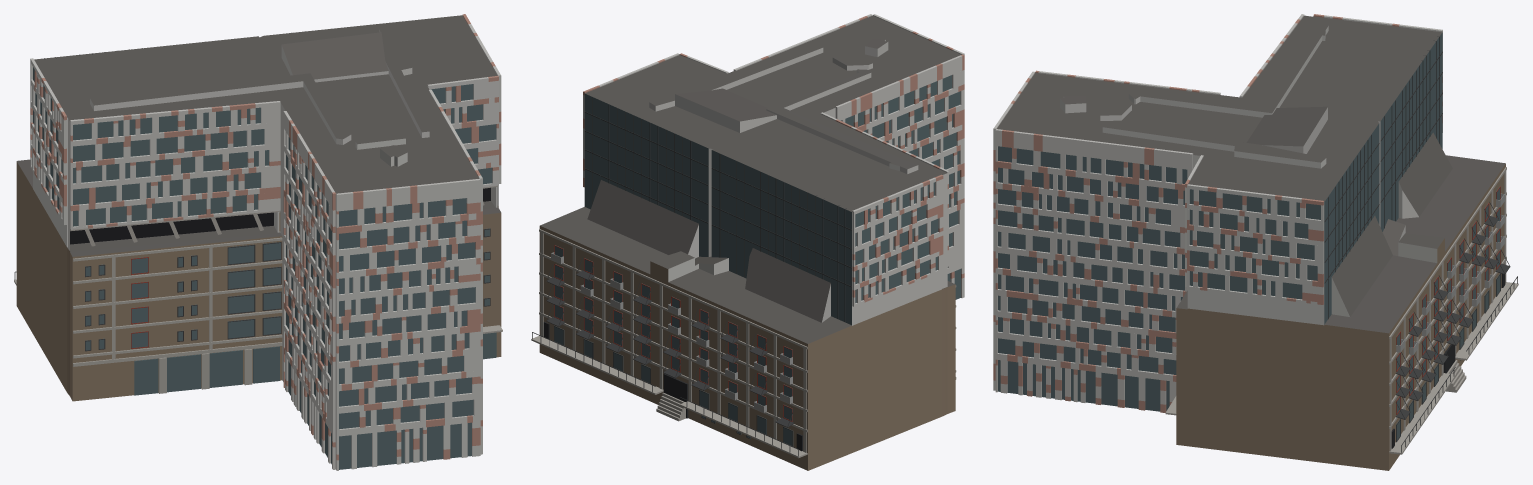
File: pakhuis-afrika.glb
3 renders of one model, left to right at view 1: azimuth 30°, elevation 25°; view 2: azimuth 150°, elevation 25°; view 3: azimuth 270°, elevation 25°, orthographic. The views are drawn at different scales.
Visible parts, largest first — view 1: pakhuis-afrika; view 2: pakhuis-afrika; view 3: pakhuis-afrika.
Part boxes in pixels (box(x1,y1,x2,y2)): pakhuis-afrika: box(14, 14, 502, 470); pakhuis-afrika: box(531, 14, 964, 470); pakhuis-afrika: box(993, 14, 1518, 470).
Size of the model in its own units: 55.95 by 36.19 by 62.87.
